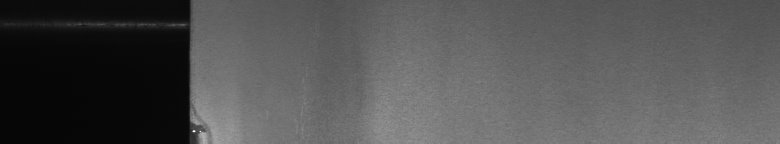hb: (200, 116, 216, 136)
